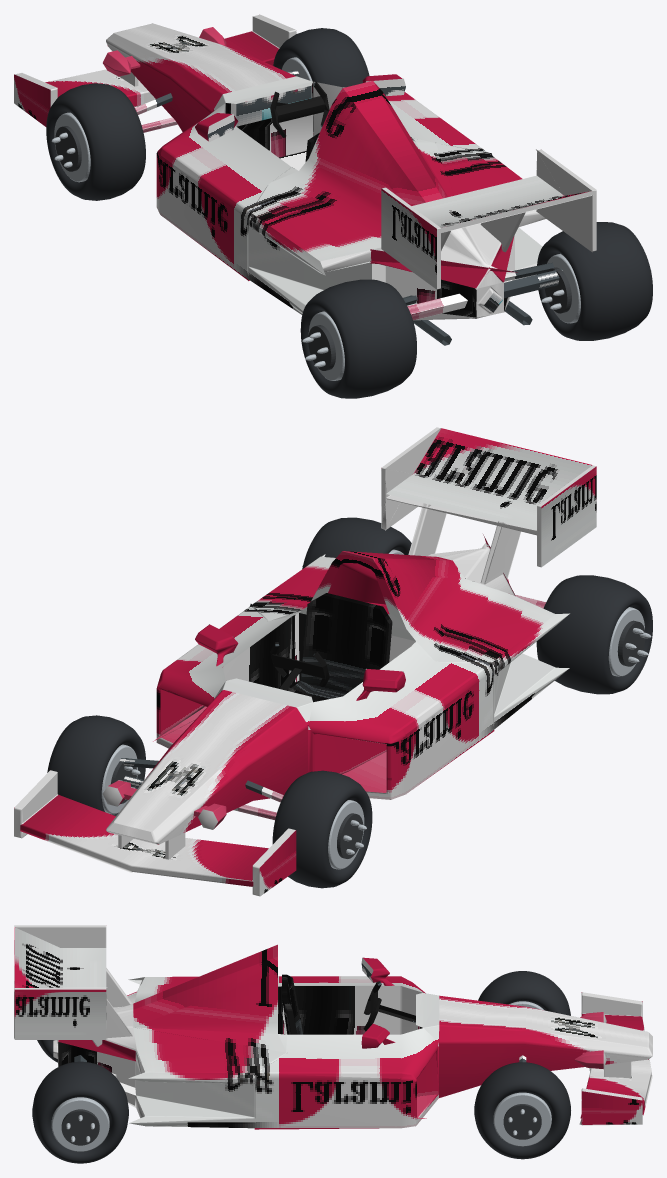
The model's file is car-fone_v.glb.
3 views of the same model, one above another, from view 1: azimuth 30°, elevation 25°; view 2: azimuth 150°, elevation 25°; view 3: azimuth 270°, elevation 25° (orthographic). The views are drawn at different scales.
Parts seen in each view (by area): view 1: fone_vShape.003, fone_vShape.002, fone_vShape.001, DoorDRotShape.066, fone_vShape.004, Rounded tire.092, Rounded tire.093, Rounded tire.095, TrunkRotShape.012, TrunkRotShape.011, HoodRotShape.011, Rounded tire.094 (+10 smaller); view 2: fone_vShape.003, DoorDRotShape.066, fone_vShape.001, fone_vShape.004, HoodRotShape.011, TrunkRotShape.011, fone_vShape.002, Rounded tire.092, Rounded tire.095, DoorPRotShape.073, Rounded tire.094, TrunkRotShape.012 (+11 smaller); view 3: fone_vShape.002, DoorPRotShape.073, fone_vShape.003, TrunkRotShape.011, Rounded tire.093, DoorDRotShape.068, Rounded tire.094, HoodRotShape.011, fone_vShape.004, Rounded tire.095, TrunkRotShape.012, HoodRotShape.010 (+8 smaller).
Boxes of the visible parts, x1,y1,x2,y2 form: fone_vShape.003: (106, 23, 545, 320); fone_vShape.002: (103, 27, 542, 314); fone_vShape.001: (251, 88, 425, 261); DoorDRotShape.066: (156, 103, 291, 280); fone_vShape.004: (135, 70, 562, 345); Rounded tire.092: (300, 279, 416, 398); Rounded tire.093: (537, 222, 652, 340); Rounded tire.095: (46, 83, 145, 200); TrunkRotShape.012: (382, 149, 596, 289); TrunkRotShape.011: (411, 175, 588, 227); HoodRotShape.011: (15, 14, 296, 107); Rounded tire.094: (273, 28, 369, 87); fone_vShape.003: (106, 503, 540, 844); DoorDRotShape.066: (308, 646, 494, 799); fone_vShape.001: (328, 558, 555, 662); fone_vShape.004: (103, 578, 546, 829); HoodRotShape.011: (14, 770, 295, 896); TrunkRotShape.011: (381, 428, 591, 530); fone_vShape.002: (107, 551, 569, 844); Rounded tire.092: (536, 575, 652, 694); Rounded tire.095: (272, 770, 372, 888); DoorPRotShape.073: (153, 604, 290, 748); Rounded tire.094: (47, 715, 145, 815); TrunkRotShape.012: (381, 427, 596, 567); fone_vShape.002: (128, 944, 648, 1128); DoorPRotShape.073: (254, 1028, 438, 1129); fone_vShape.003: (53, 968, 652, 1117); TrunkRotShape.011: (14, 927, 106, 1039); Rounded tire.093: (32, 1061, 128, 1163); DoorDRotShape.068: (294, 957, 422, 1034); Rounded tire.094: (474, 1062, 570, 1159); HoodRotShape.011: (579, 992, 652, 1125); fone_vShape.004: (58, 974, 606, 1095); Rounded tire.095: (478, 971, 570, 1015); TrunkRotShape.012: (14, 925, 107, 1038); HoodRotShape.010: (581, 1091, 642, 1124).
Bounding box in the file's own units: 2.66 × 1.46 × 5.33.
8 materials, 5 textured.
